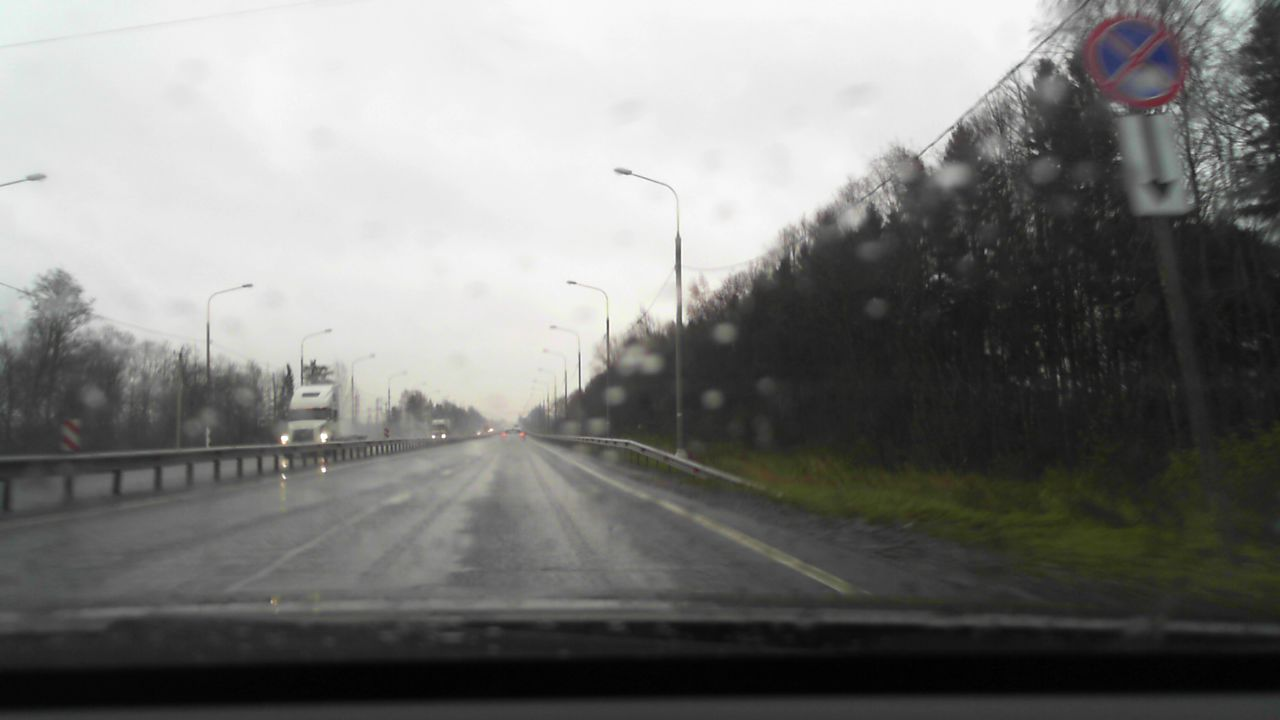No Parking: (1085, 15, 1186, 109)
